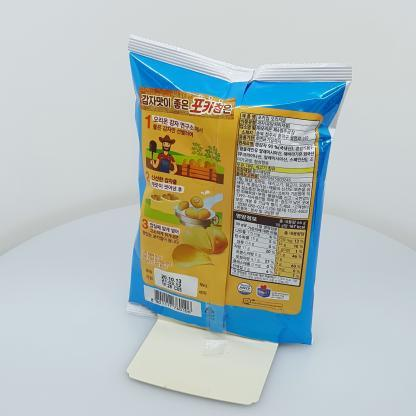Plastic Packaging: (112, 20, 356, 356)
